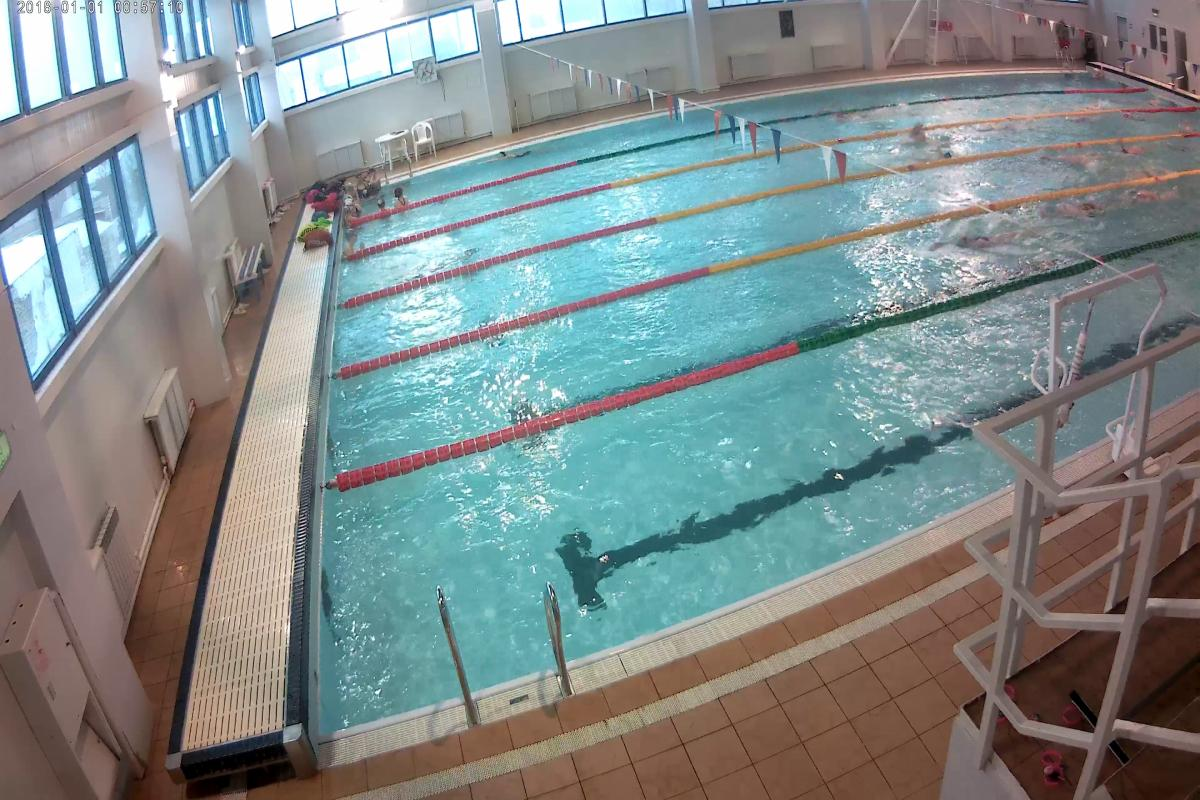swimmer: (942, 222, 1034, 249), (1043, 192, 1097, 223), (344, 228, 361, 256)
